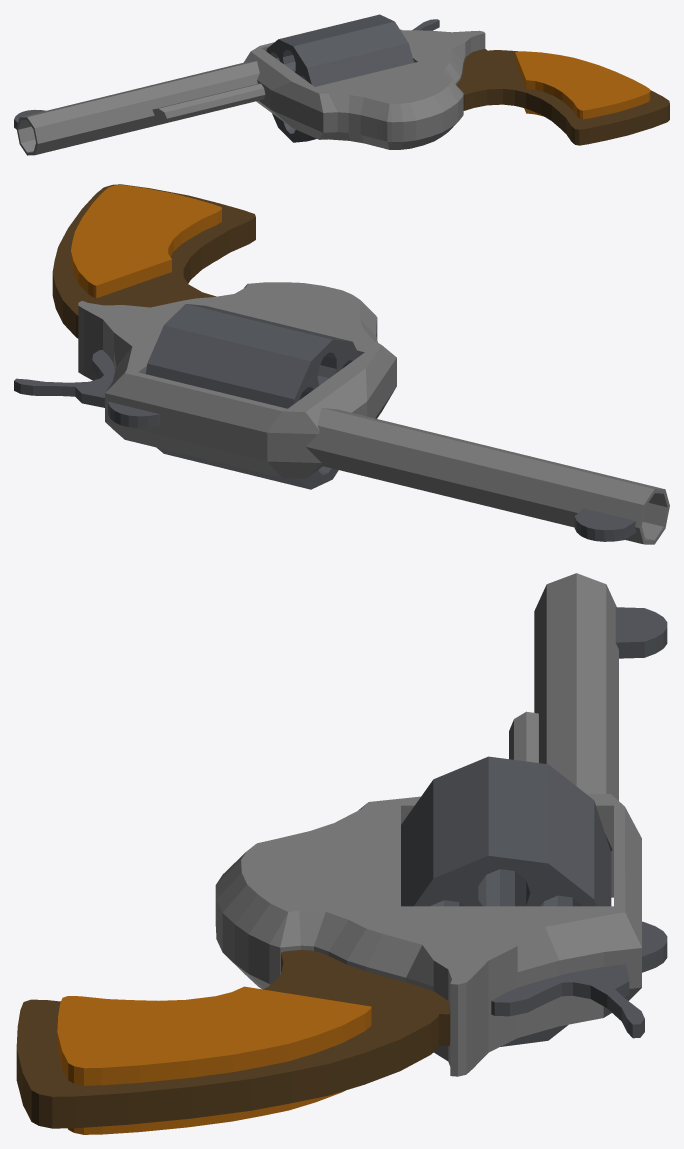
File: Pistol.fbx
3 renders of one model, top to bottom at view 1: azimuth 30°, elevation 25°; view 2: azimuth 150°, elevation 25°; view 3: azimuth 270°, elevation 25°, orthographic. The views are drawn at different scales.
Parts seen in each view (by area): view 1: Gun, Barrel, Mag; view 2: Gun, Barrel, Mag, FrontSight, BackSIght; view 3: Gun, Mag, Barrel, FrontSight, BackSIght.
Part boxes in pixels (box(x1,y1,x2,y2)): Gun: box(244, 19, 669, 149); Barrel: box(16, 61, 265, 155); Mag: box(266, 14, 413, 142); Gun: box(14, 184, 396, 478); Barrel: box(305, 408, 669, 544); Mag: box(145, 304, 359, 489); FrontSight: box(574, 508, 636, 541); BackSIght: box(108, 401, 159, 427); Gun: box(16, 794, 644, 1134); Mag: box(401, 756, 611, 1046); Barrel: box(509, 573, 618, 865); FrontSight: box(615, 607, 667, 658); BackSIght: box(642, 921, 667, 972).
Size of the model in its own units: 487 by 87.78 by 268.
